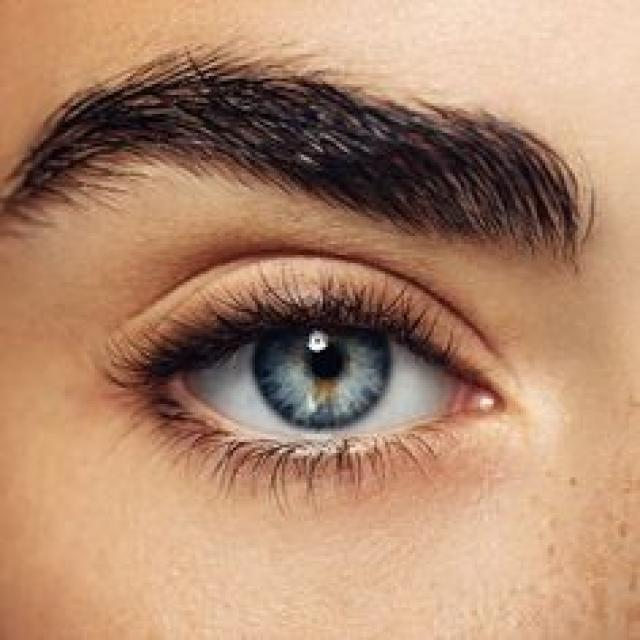Normal: (25, 176, 533, 562)
